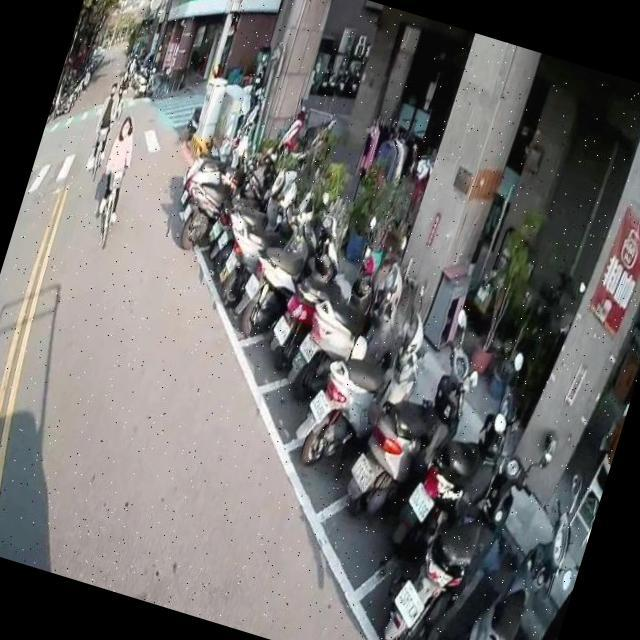person: (89, 109, 149, 225), (81, 76, 128, 176)
